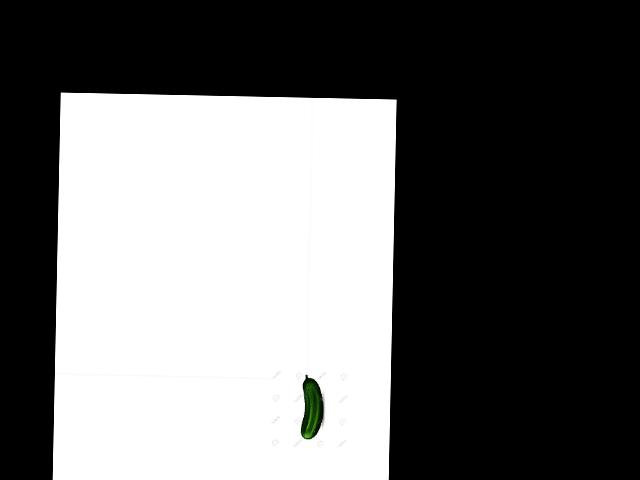cucumber: (300, 375, 324, 439)
